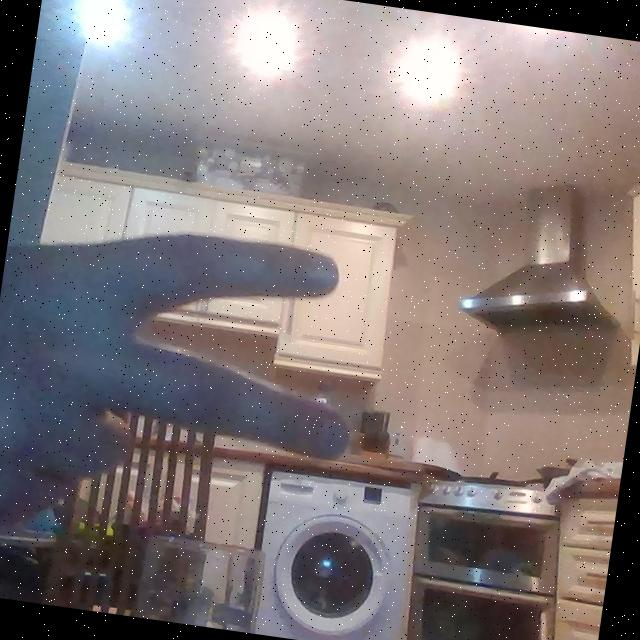scissors: (0, 199, 380, 586)
